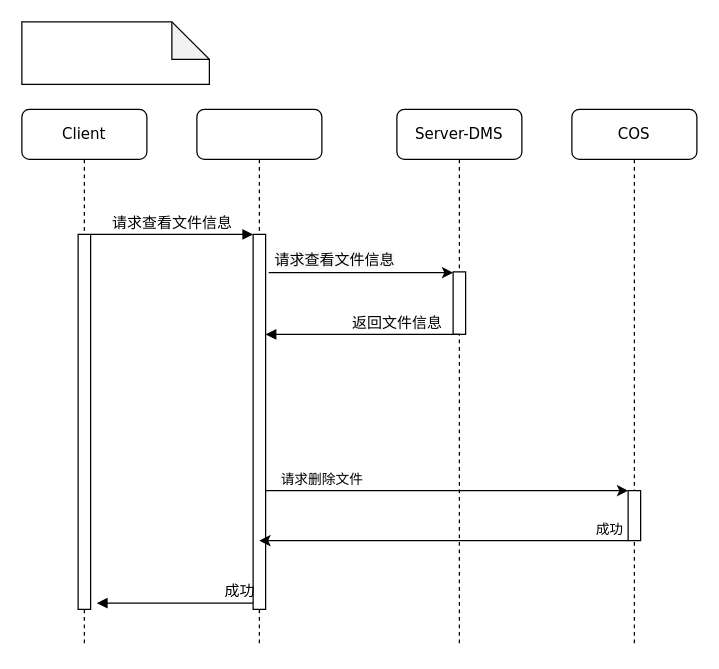
This 719x669 diagram has some shape labels left out. The shapes that lost their labels are listed below. From the top down, each one's box as (x1, y1, x2, y2) in pixels, then its label:
(21, 21, 209, 84): 客户端查看文件信息
(196, 108, 322, 647): Server-CGI
